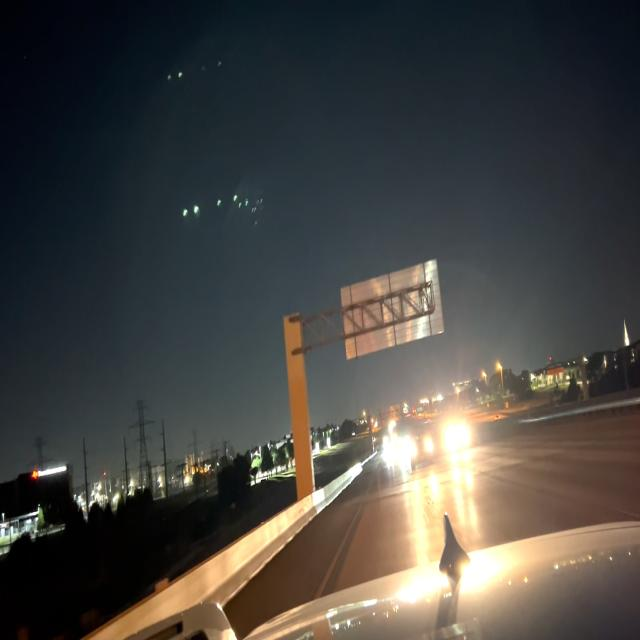back-of-sign: (341, 256, 447, 366)
